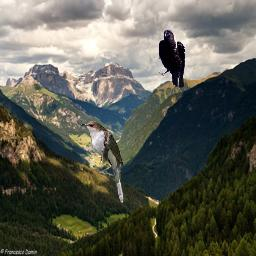Crow: (158, 29, 185, 89)
Cuckoo: (79, 120, 124, 203)
